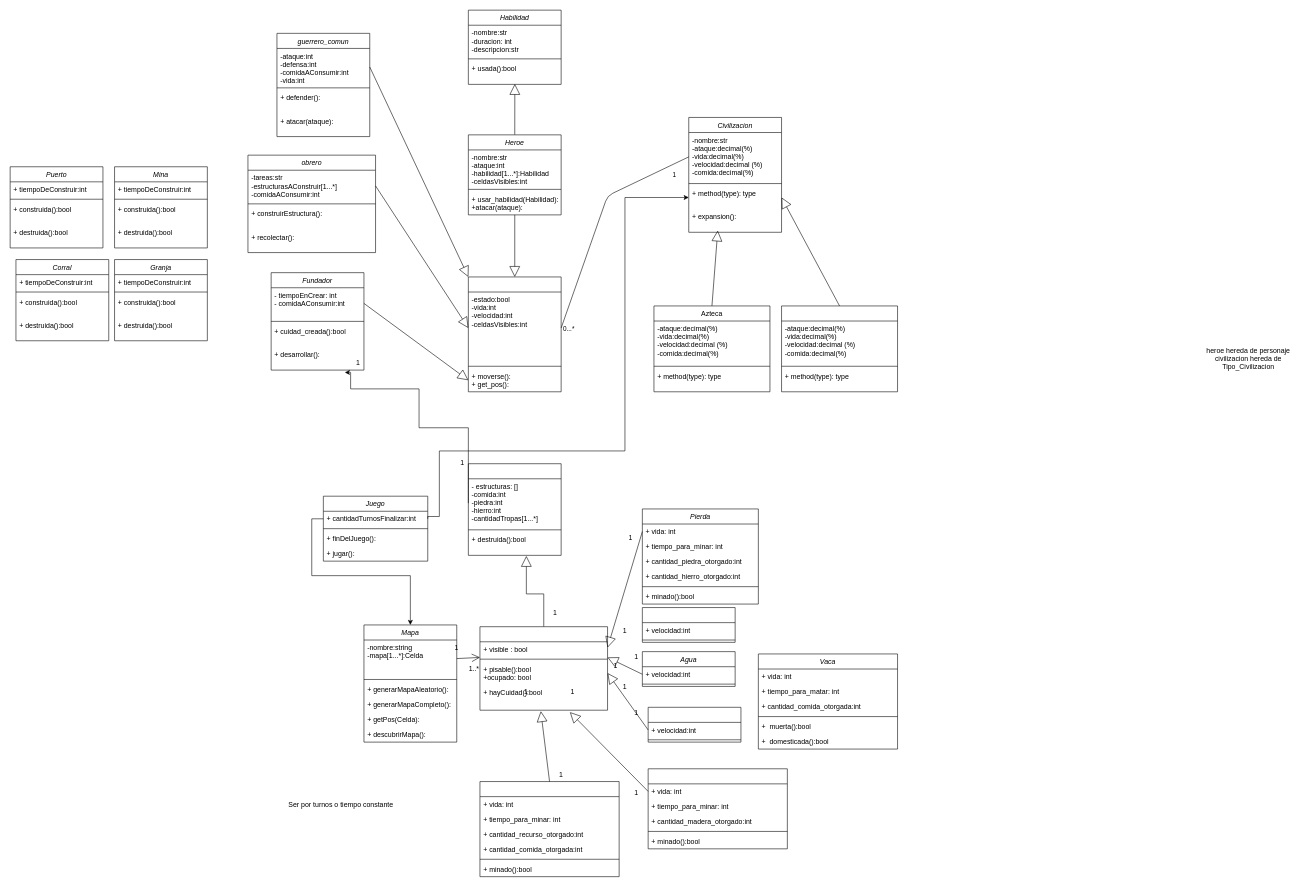
Some shapes in this 1314 by 889 pixel diagram are drawn without their labels. The shapes that lost their labels are listed below. From the top down, each one's box as (x1, y1, x2, y2) in pixels, then its label:
(468, 276, 561, 392): Personaje
(781, 305, 898, 392): Incas
(468, 463, 561, 555): Ciudad
(642, 607, 735, 642): Montaña
(479, 626, 608, 710): Celda
(648, 707, 741, 742): Tierra
(648, 768, 787, 849): Arbol
(479, 781, 619, 877): Arbusto
